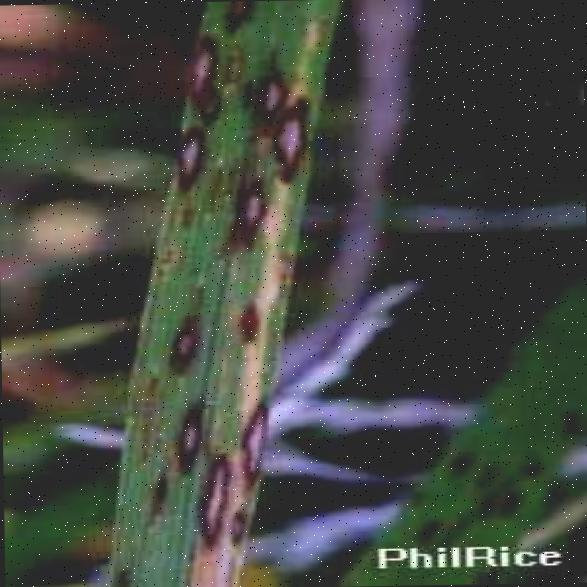Leaf_smut: (156, 282, 213, 386), (156, 117, 223, 204), (145, 396, 218, 472), (229, 386, 286, 478), (221, 172, 283, 256), (188, 446, 234, 558), (179, 26, 222, 118), (268, 90, 308, 176), (239, 55, 288, 114)
